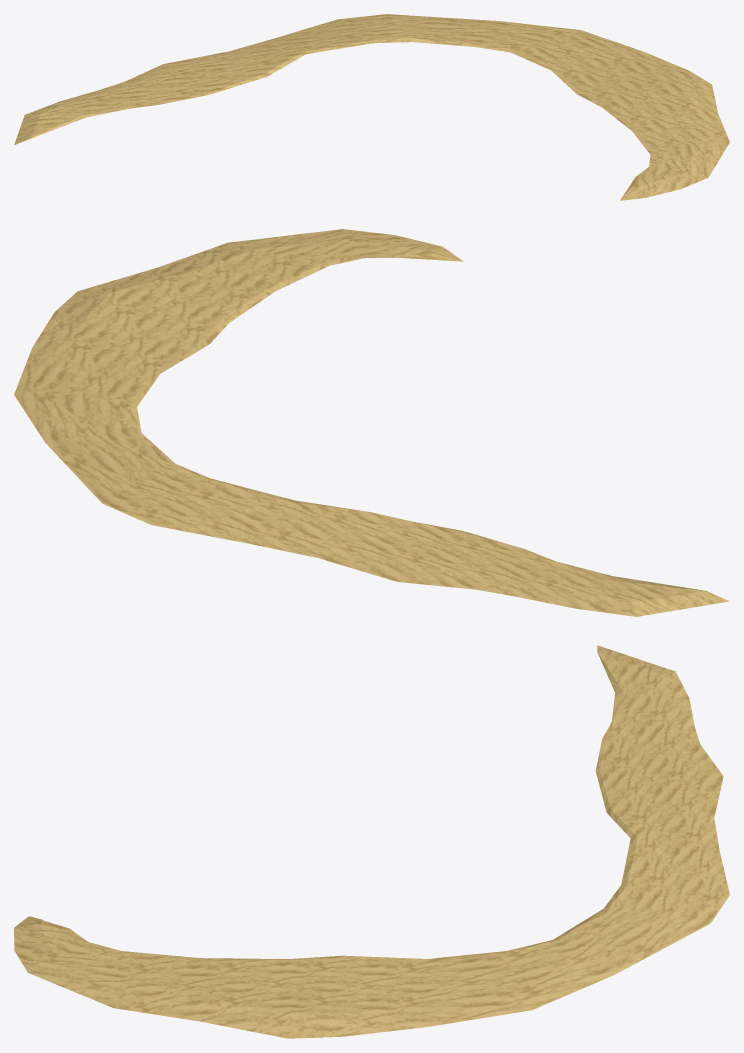
The model's file is Beach.fbx.
3 views of the same model, one above another, from view 1: azimuth 30°, elevation 25°; view 2: azimuth 150°, elevation 25°; view 3: azimuth 270°, elevation 25° (orthographic). The views are drawn at different scales.
Visible parts, largest first — view 1: pCube1; view 2: pCube1; view 3: pCube1.
Part boxes in pixels (bbox=[...]): pCube1: bbox=[14, 14, 729, 200]; pCube1: bbox=[14, 229, 729, 616]; pCube1: bbox=[14, 645, 729, 1038].
Bounding box in the file's own units: 5436 × 93.26 × 4180.
